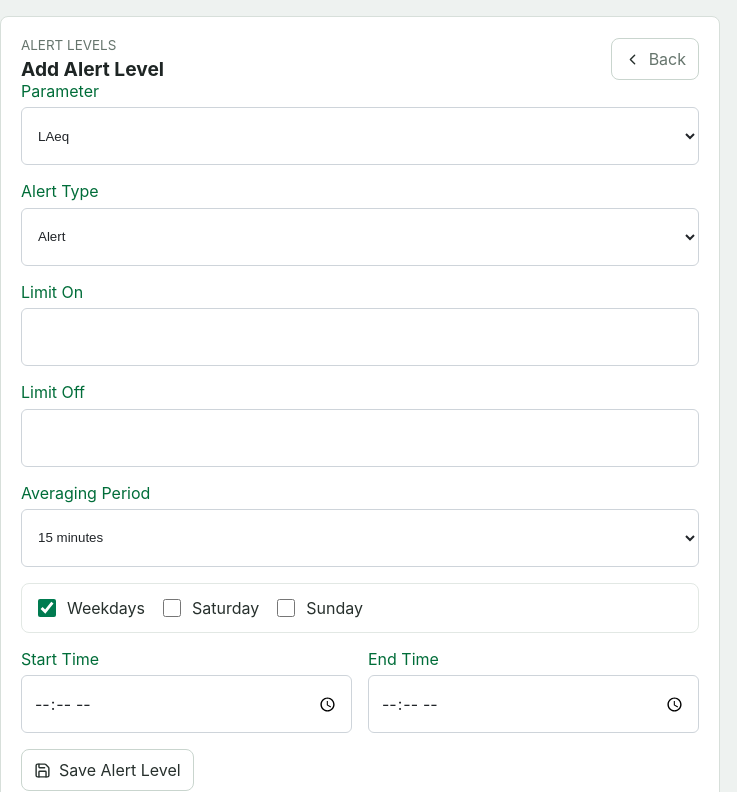
Test: Alert level thresholds › refuses a blank limit rather than creating a level that alerts on every reading
Click the button "Save Alert Level". click: (107, 770)
box: [21,749,194,791]
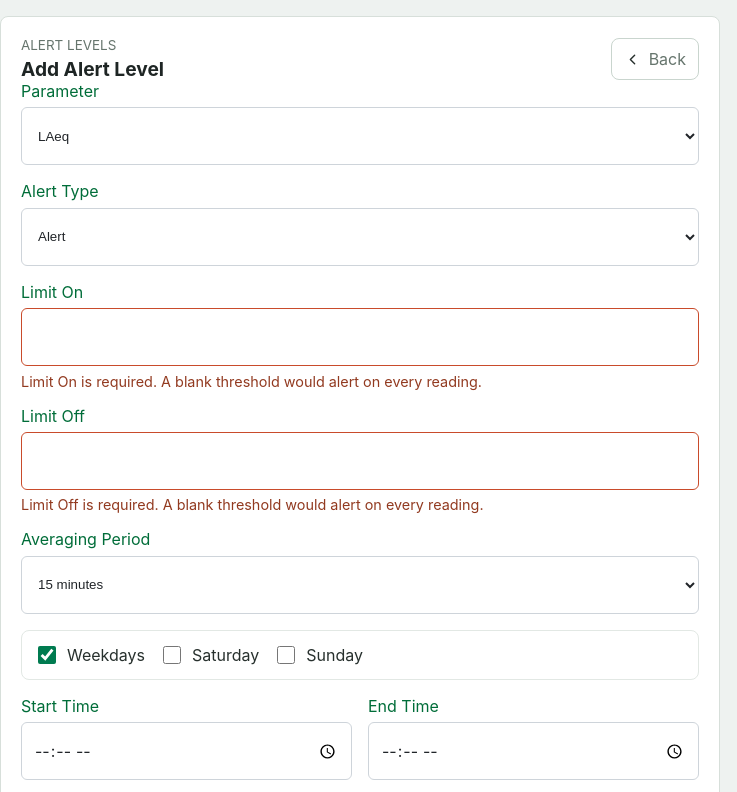
Expected: the text "Limit On is required" is shown, [21,373,482,390]
Expected: the text "Limit Off is required" is shown, [21,496,484,513]
